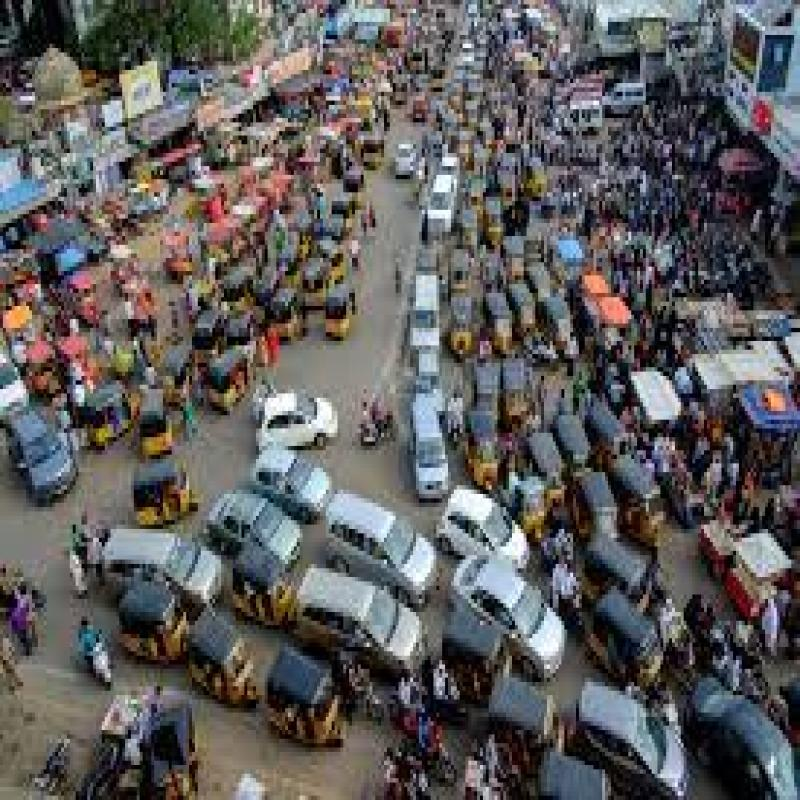auto: (176, 608, 273, 697), (266, 644, 338, 751), (130, 448, 220, 524), (323, 292, 373, 349)
car: (446, 540, 570, 648), (581, 677, 685, 800), (323, 485, 433, 597), (402, 396, 457, 514), (248, 394, 352, 447), (406, 271, 456, 352), (420, 167, 466, 240)
